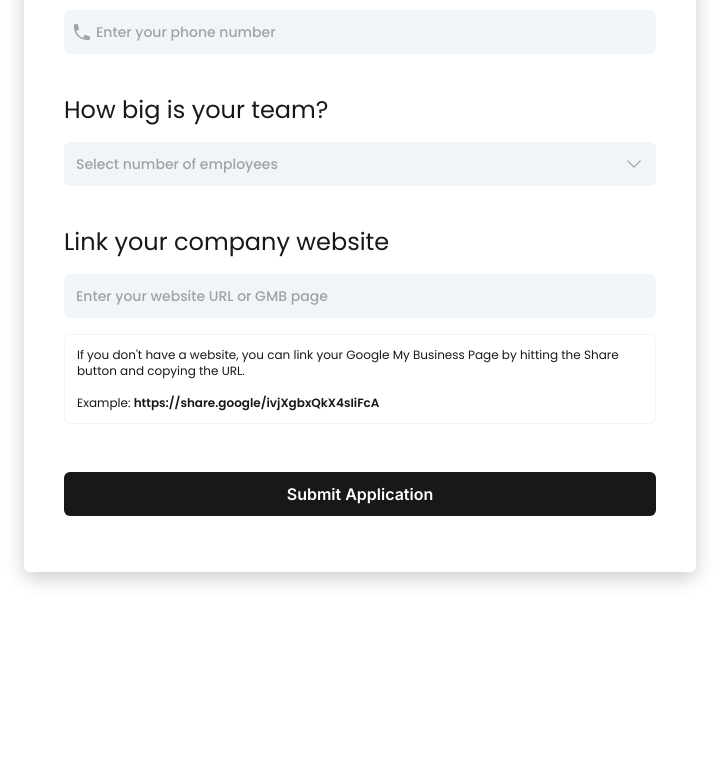
MoverSignUpForm › Form Validation › clears error when user starts typing in company name field
(page scrolled)
# Trigger validation error
Click the button "Submit Application". click: [360, 494]
box: [64,472,656,516]
(page scrolled)
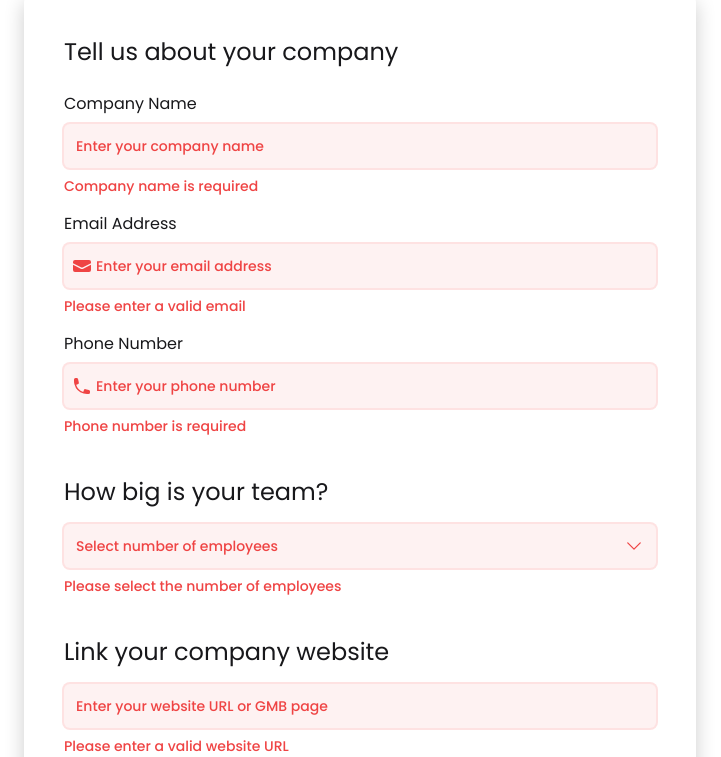
Expected: the text "Company name is required" is shown, [64,176,258,196]
# Start typing
Type "T" into the field with placeholder "Enter your company name". click: [360, 146]
box: [64,124,656,168]
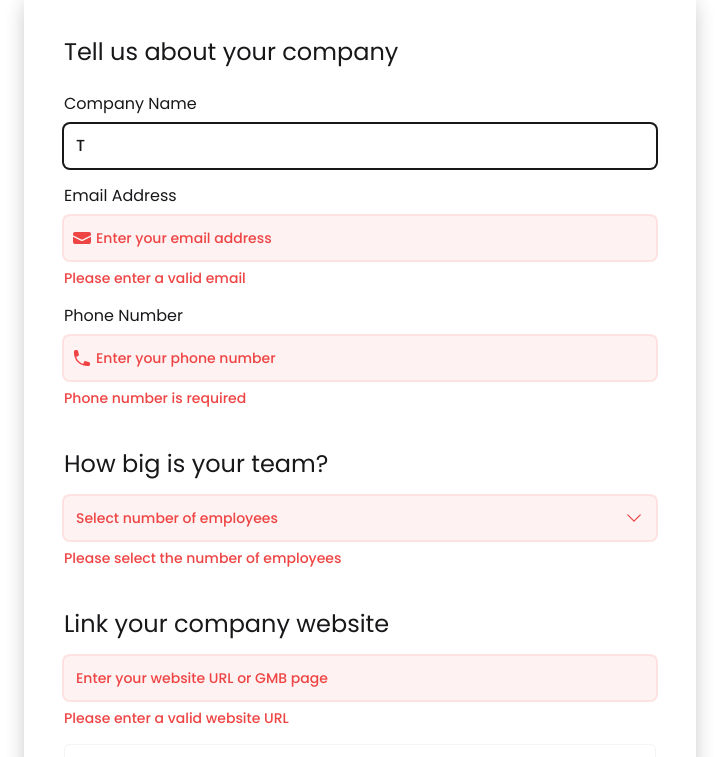
Expected: the text "Company name is required" is gone
